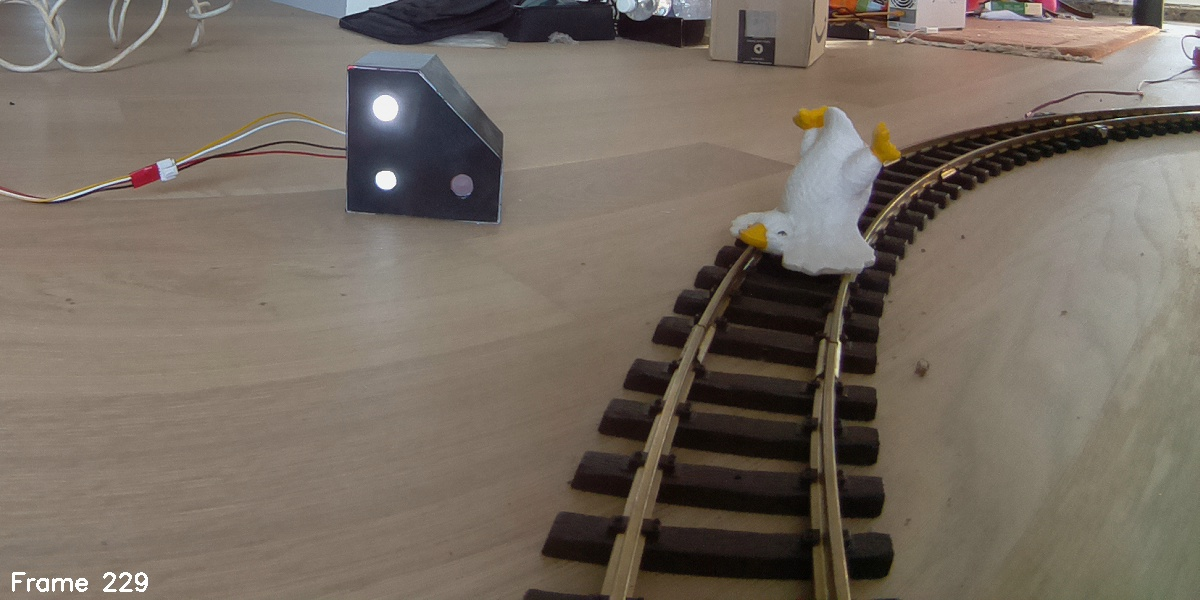Ente: (730, 105, 900, 284)
Fahrt: (351, 51, 504, 226)
